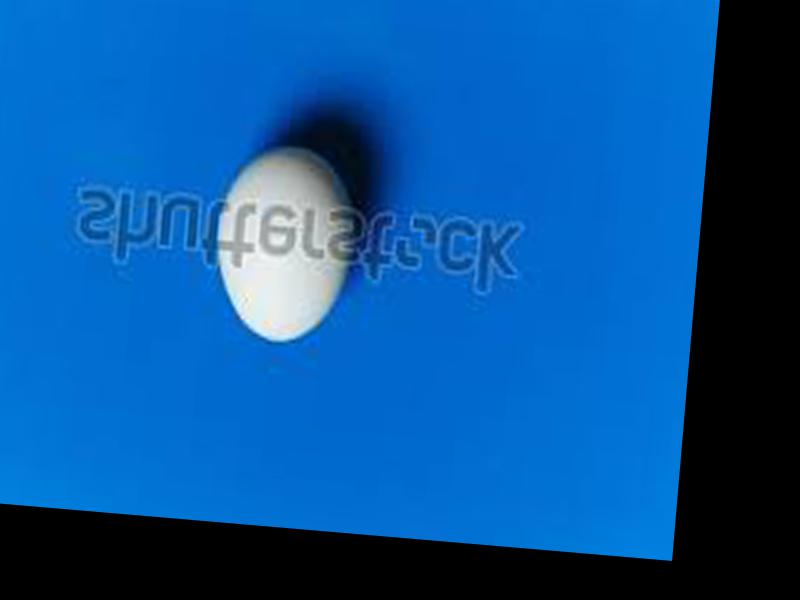Eggs: (211, 141, 359, 352)
